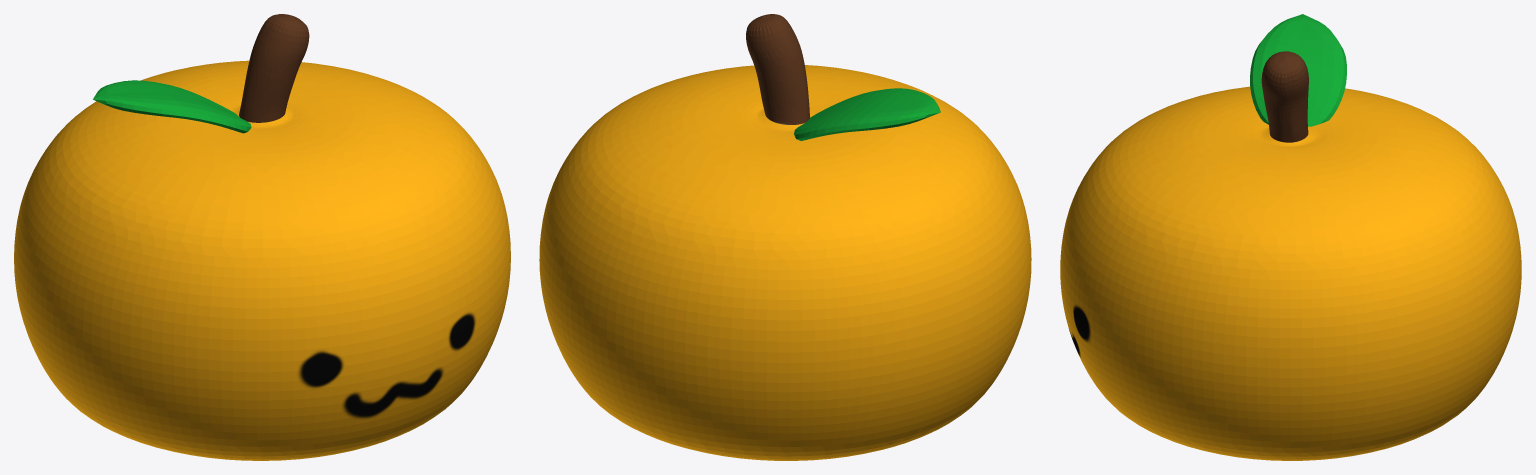
File: みかんちゃん.fbx
3 views of the same model, side by side, from view 1: azimuth 30°, elevation 25°; view 2: azimuth 150°, elevation 25°; view 3: azimuth 270°, elevation 25° (orthographic). The views are drawn at different scales.
Parts seen in each view (by area): view 1: 球, 平面; view 2: 球, 平面; view 3: 球, 平面.
Part boxes in pixels (left/top/right/bottom): 球: left=14, top=14, right=510, bottom=460; 平面: left=93, top=80, right=251, bottom=133; 球: left=539, top=14, right=1031, bottom=460; 平面: left=794, top=88, right=940, bottom=140; 球: left=1060, top=51, right=1521, bottom=460; 平面: left=1250, top=14, right=1346, bottom=126.
Size of the model in its own units: 1387 by 1167 by 1370.
